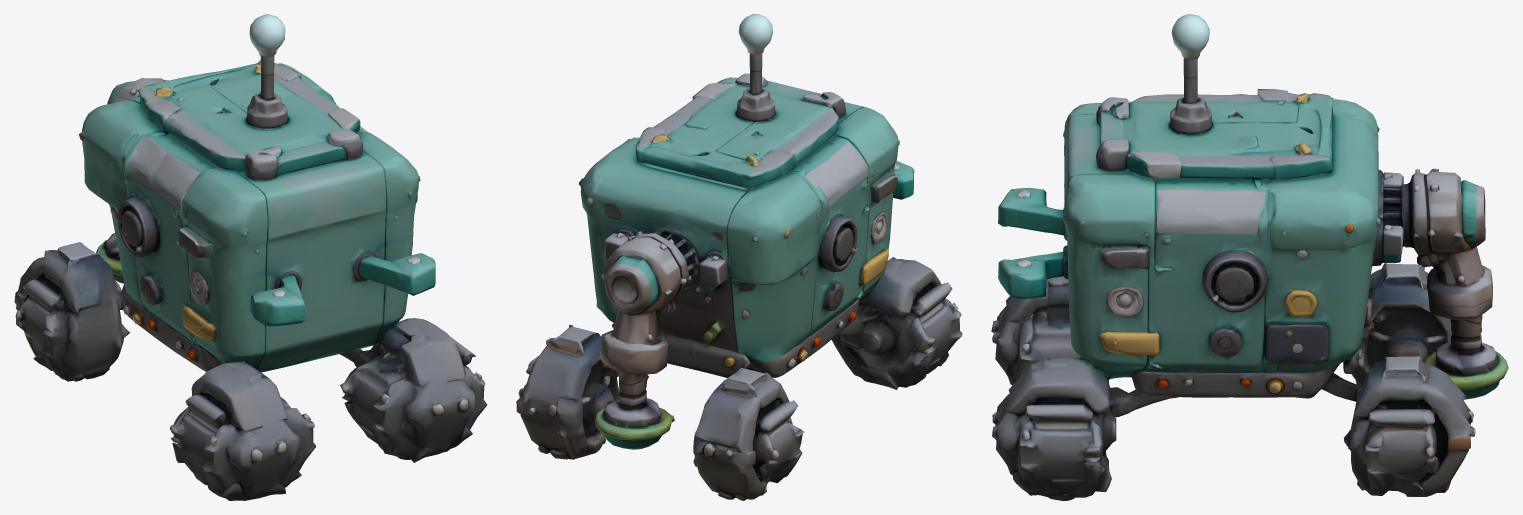
Rendered from robot.glb.
3 views of the same model, side by side, from view 1: azimuth 30°, elevation 25°; view 2: azimuth 150°, elevation 25°; view 3: azimuth 270°, elevation 25° (orthographic). The views are drawn at different scales.
Parts seen in each view (by area): view 1: tripo_node_7d1ebf3d-0ff4-4926-b9dd-598bbf6ea334; view 2: tripo_node_7d1ebf3d-0ff4-4926-b9dd-598bbf6ea334; view 3: tripo_node_7d1ebf3d-0ff4-4926-b9dd-598bbf6ea334.
Boxes of the visible parts, x1,y1,x2,y2 form: tripo_node_7d1ebf3d-0ff4-4926-b9dd-598bbf6ea334: (14, 14, 487, 500); tripo_node_7d1ebf3d-0ff4-4926-b9dd-598bbf6ea334: (516, 14, 962, 500); tripo_node_7d1ebf3d-0ff4-4926-b9dd-598bbf6ea334: (991, 14, 1508, 500).
Bounding box in the file's own units: 0.669 × 0.9174 × 1.
1 material, 1 textured.
